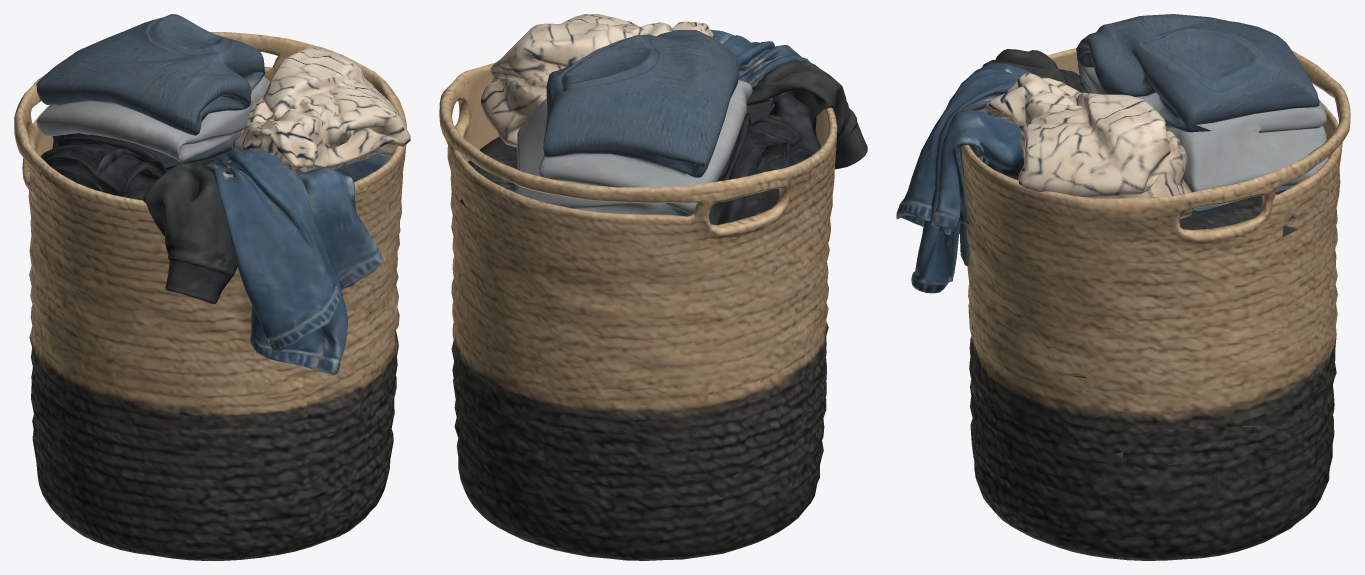
The model's file is desktop.glb.
The picture shows the model from 3 angles, left to right: view 1: azimuth 30°, elevation 25°; view 2: azimuth 150°, elevation 25°; view 3: azimuth 270°, elevation 25°; orthographic projection. The views are drawn at different scales.
Visible parts, largest first — view 1: laundrybasket; view 2: laundrybasket; view 3: laundrybasket.
Part boxes in pixels (x1,y1,x2,y2): laundrybasket: (14,14,410,560); laundrybasket: (439,14,867,560); laundrybasket: (896,14,1350,560).
Size of the model in its own units: 0.4404 by 0.5499 by 0.4987.
1 material, 1 textured.
